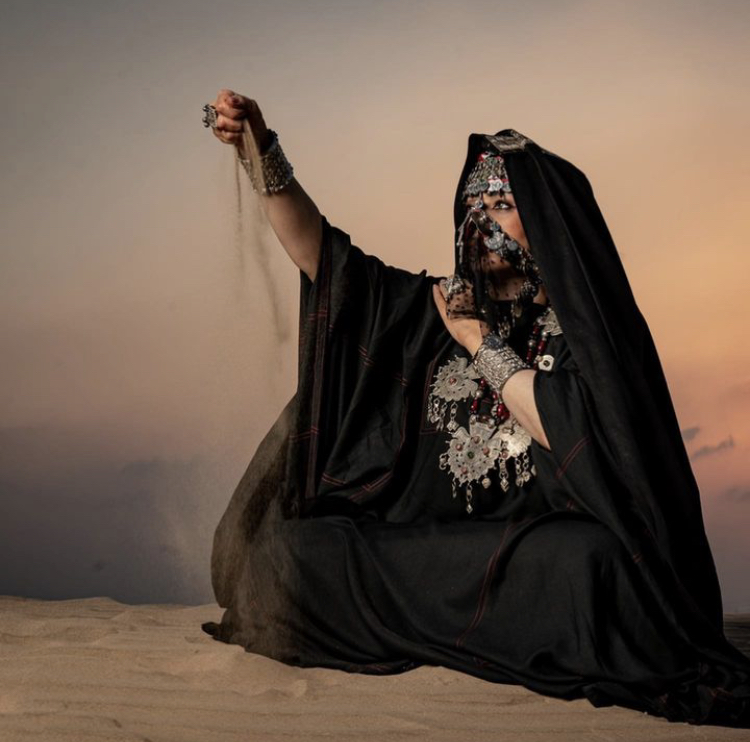Saudi_Founding_Day: (197, 86, 749, 733)
